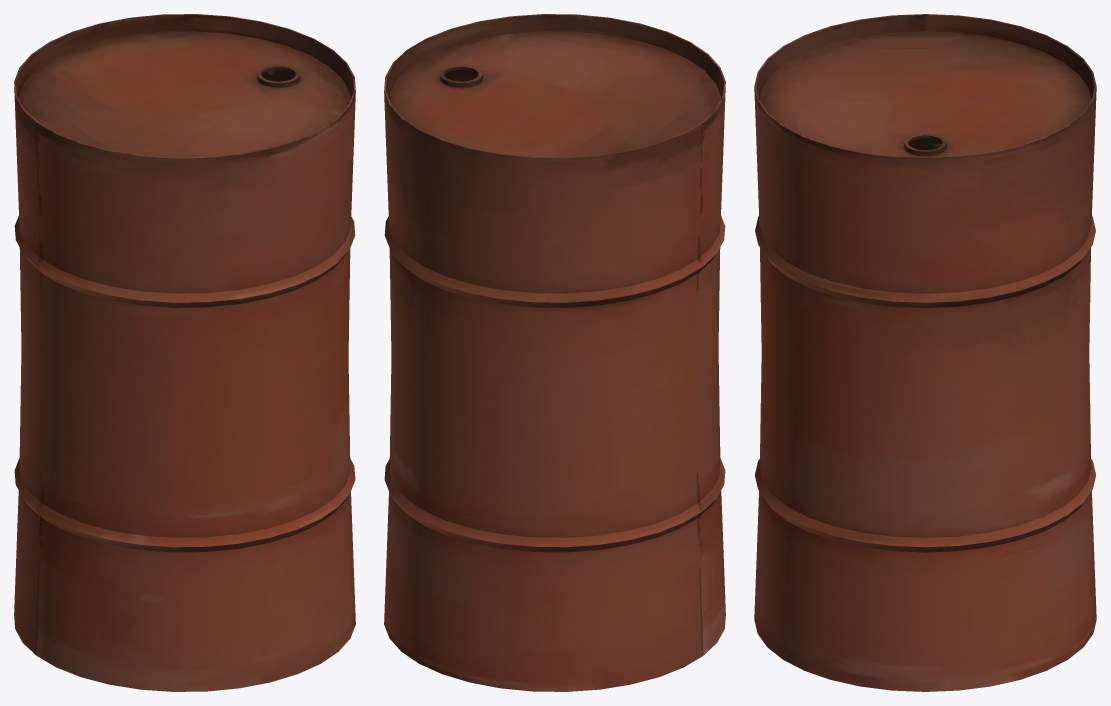
3 renders of one model, left to right at view 1: azimuth 30°, elevation 25°; view 2: azimuth 150°, elevation 25°; view 3: azimuth 270°, elevation 25°, orthographic.
Visible parts, largest first — view 1: body0_model0_lod0_mesh0; view 2: body0_model0_lod0_mesh0; view 3: body0_model0_lod0_mesh0.
Part boxes in pixels (x1,y1,x2,y2): body0_model0_lod0_mesh0: (14, 14, 355, 691); body0_model0_lod0_mesh0: (384, 14, 725, 691); body0_model0_lod0_mesh0: (754, 14, 1096, 691).
Bounding box in the file's own units: 32 × 55 × 32.
1 material, 1 textured.
